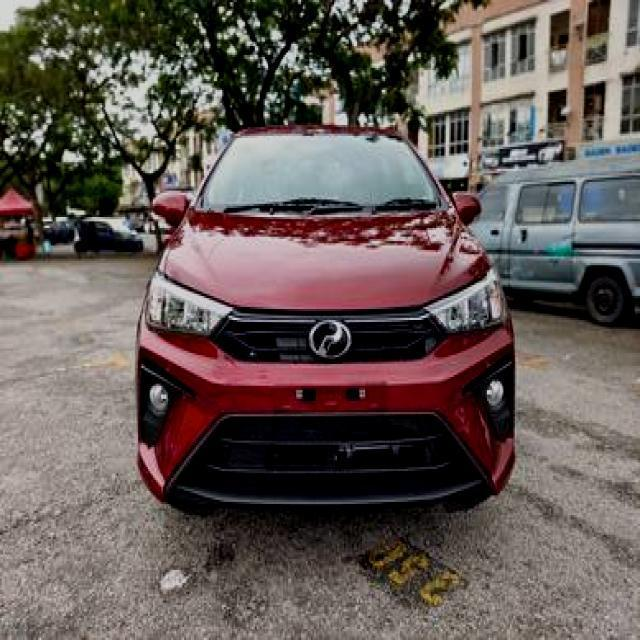PeroduaBezza: (133, 121, 517, 513)
